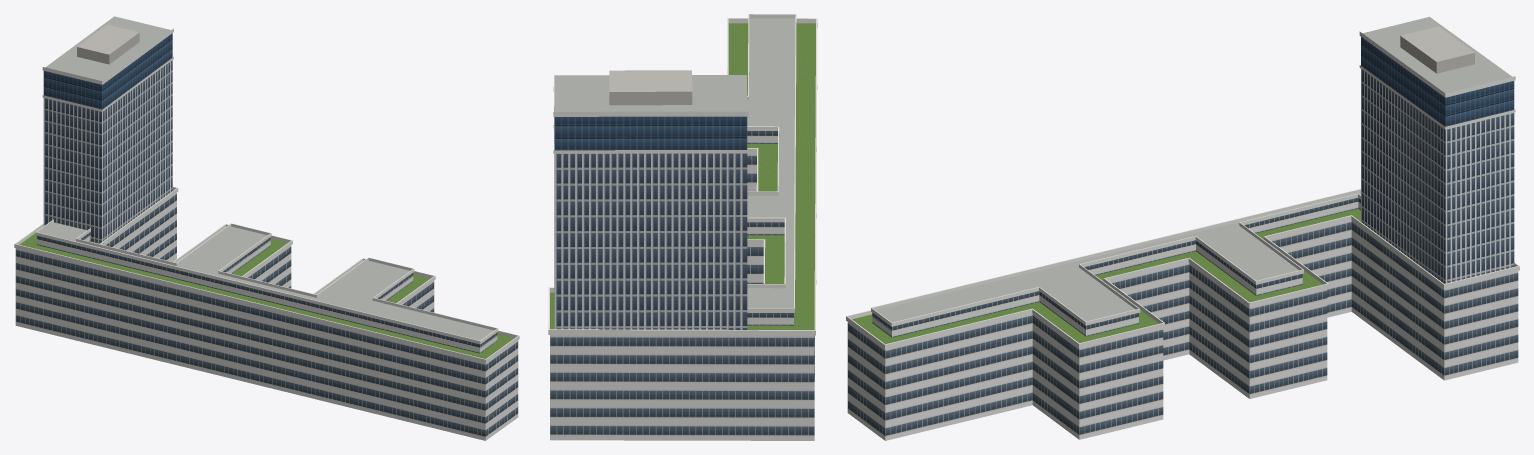
The model's file is linjianglou.glb.
The picture shows the model from 3 angles, left to right: view 1: azimuth 30°, elevation 25°; view 2: azimuth 150°, elevation 25°; view 3: azimuth 270°, elevation 25°; orthographic projection. The views are drawn at different scales.
Visible parts, largest first — view 1: 临江楼_裙楼, 临江楼_塔楼; view 2: 临江楼_裙楼, 临江楼_塔楼; view 3: 临江楼_裙楼, 临江楼_塔楼.
Part boxes in pixels (x1,y1,x2,y2): 临江楼_裙楼: [14, 186, 519, 440]; 临江楼_塔楼: [42, 16, 173, 243]; 临江楼_裙楼: [548, 14, 817, 440]; 临江楼_塔楼: [553, 70, 748, 329]; 临江楼_裙楼: [846, 189, 1519, 440]; 临江楼_塔楼: [1359, 17, 1515, 283].
Bounding box in the file's own units: 97.03 × 81.2 × 168.
7 materials, 5 textured.
